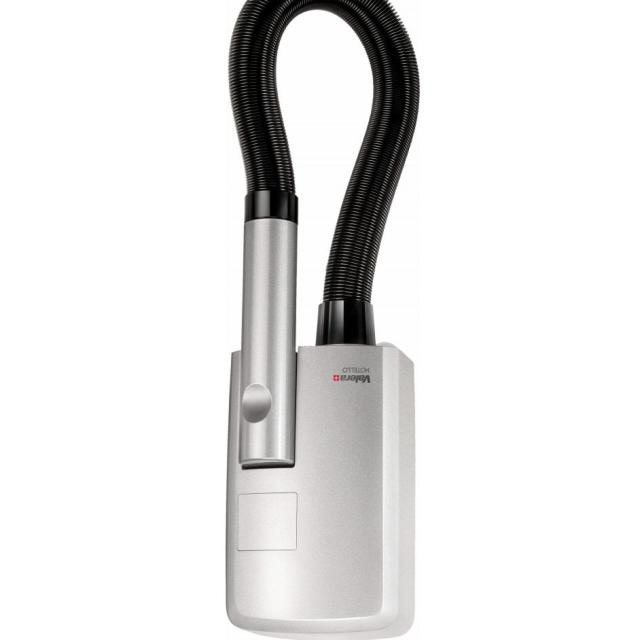dryer: (187, 0, 438, 640)
